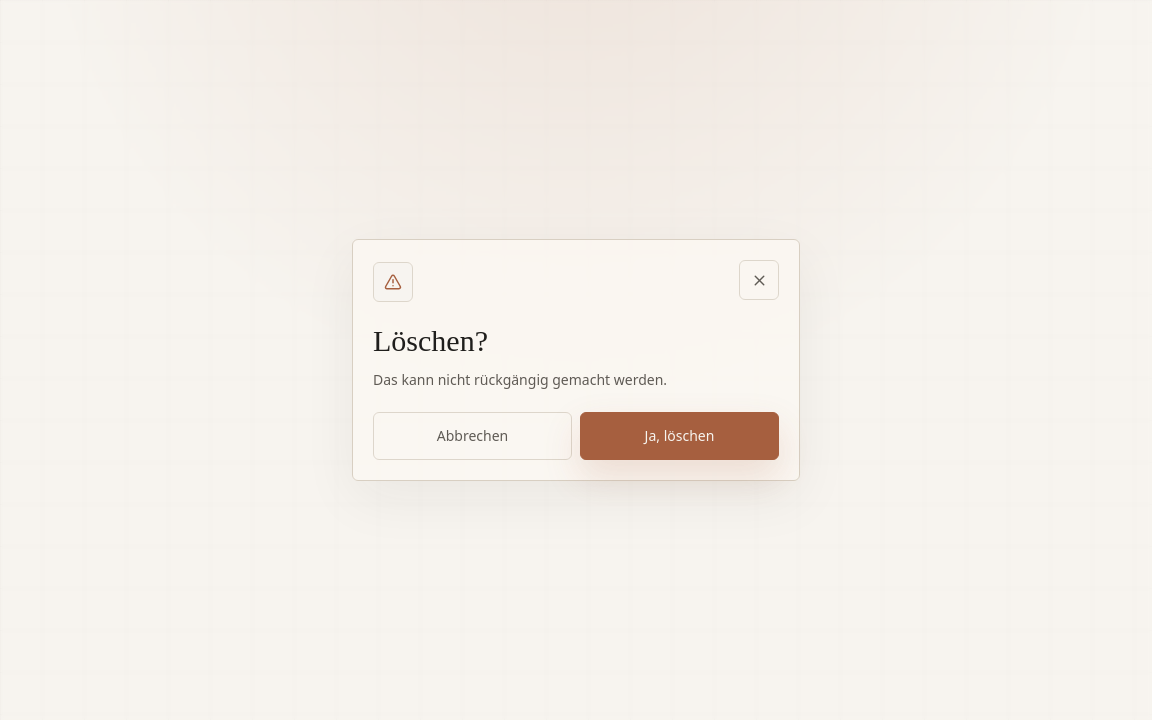
it: ConfirmSheet › setzt den Busy-Zustand beim Schließen zurück, auch wenn die Aktion noch läuft
The image size is (1152, 720).
Later steps or results of the test are not shown.
What coordinates should you click on to do the following:
click the button "Ja, löschen"
I would click on:
 (680, 436)
Its box is x1=580 y1=412 x2=779 y2=460.
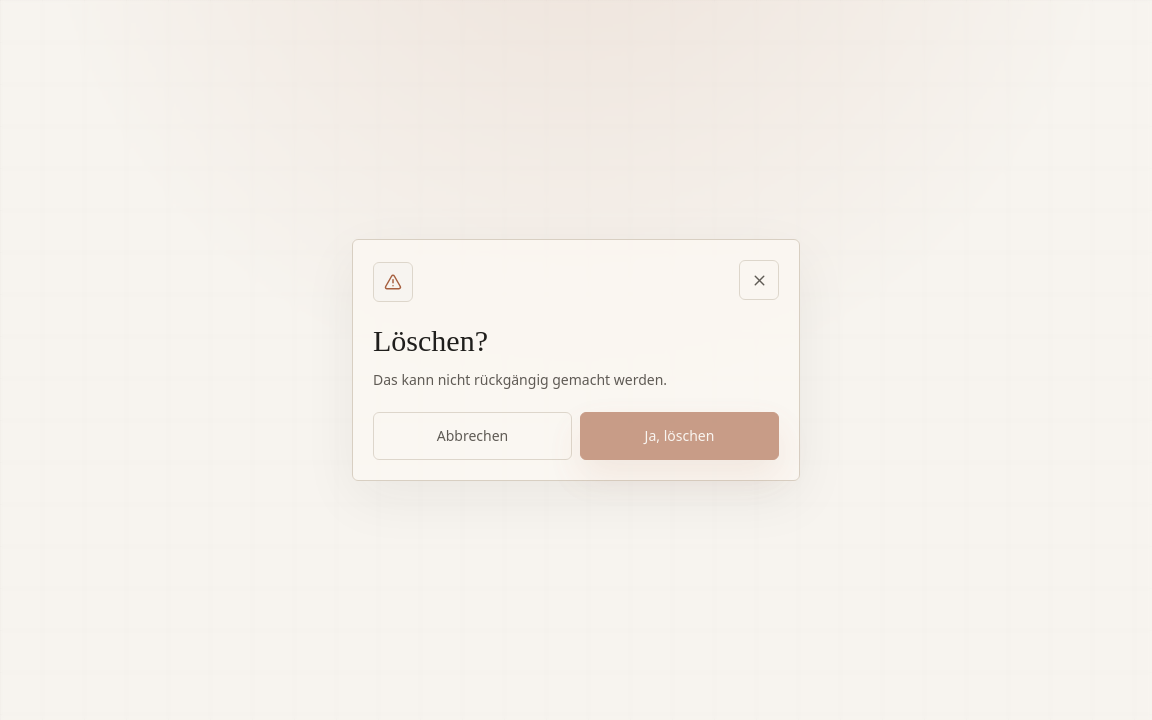
Expected: the button "Ja, löschen" is disabled, x1=580 y1=412 x2=779 y2=460
